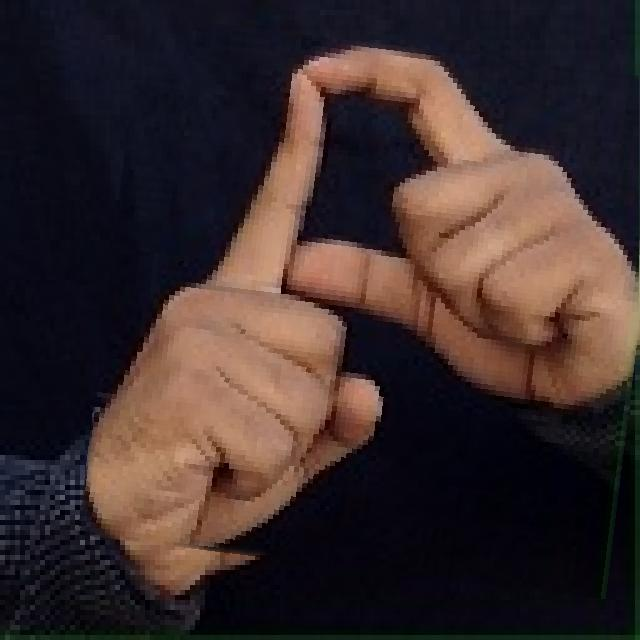D: (93, 30, 640, 584)
